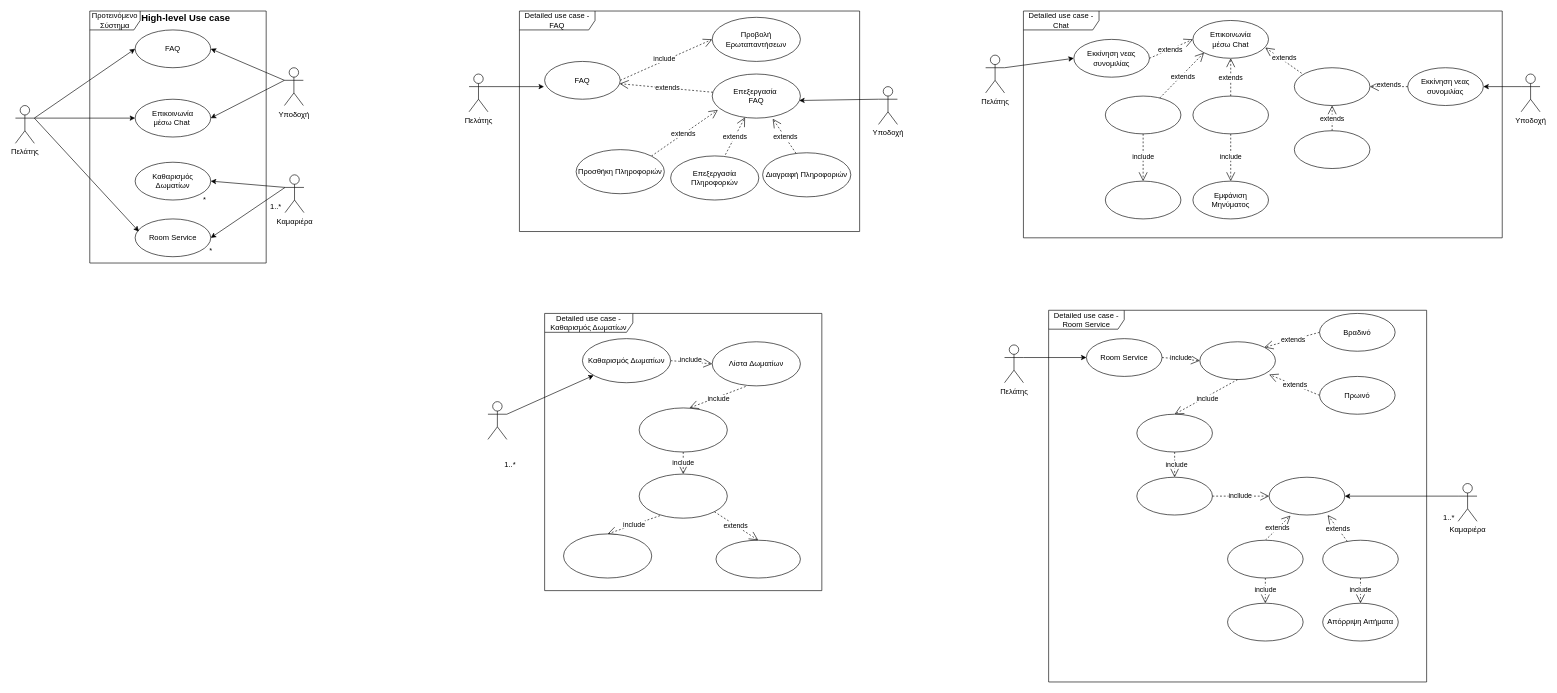
This 1557x693 diagram has some shape labels left out. Each missing label, with the centre of its shape:
"Έγκριση Αιτήματος" goes at pixel 1265 622.
"Έλεγχος Προμηθειών" goes at pixel 1307 496.
"Αναμονή Απάντησης" goes at pixel 1174 496.
"Αναφορά Απωλειών" goes at pixel 683 495.
"Αποστολή Μηνύματος" goes at pixel 1143 114.
"Ενημέρωση Λίστας Απωλειών" goes at pixel 757 559.
"Επαρκείς προμήθιες" goes at pixel 1265 559.
"Επιλογή Δωματίου" goes at pixel 683 429.
"Επιλογή Είδους Γεύματος" goes at pixel 1237 360.
"Επιλογή Συνομιλητή (Πελάτη)" goes at pixel 1332 149.
"Επιλογή Ώρας" goes at pixel 1174 433.
"Καμαριέρα" goes at pixel 497 420.
"Λίστα Δωματιών" goes at pixel 1332 86.
"Μη Επαρκείς προμήθιες" goes at pixel 1360 559.
"Παραλαβή Μηνύματος" goes at pixel 1230 114.
"Συμπλήρωσης Λίστας Αντικειμένων" goes at pixel 607 555.
"Σύνταξη Μηνύματος" goes at pixel 1143 199.
